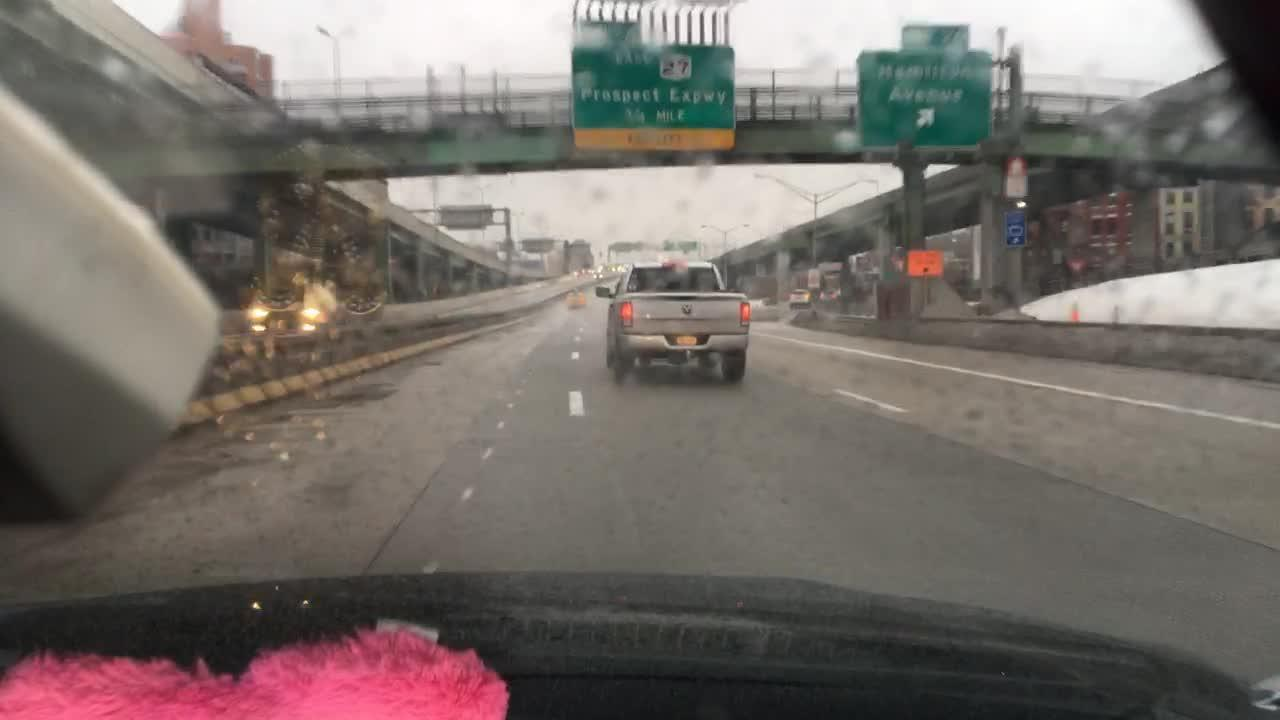ram: (679, 299, 698, 318)
